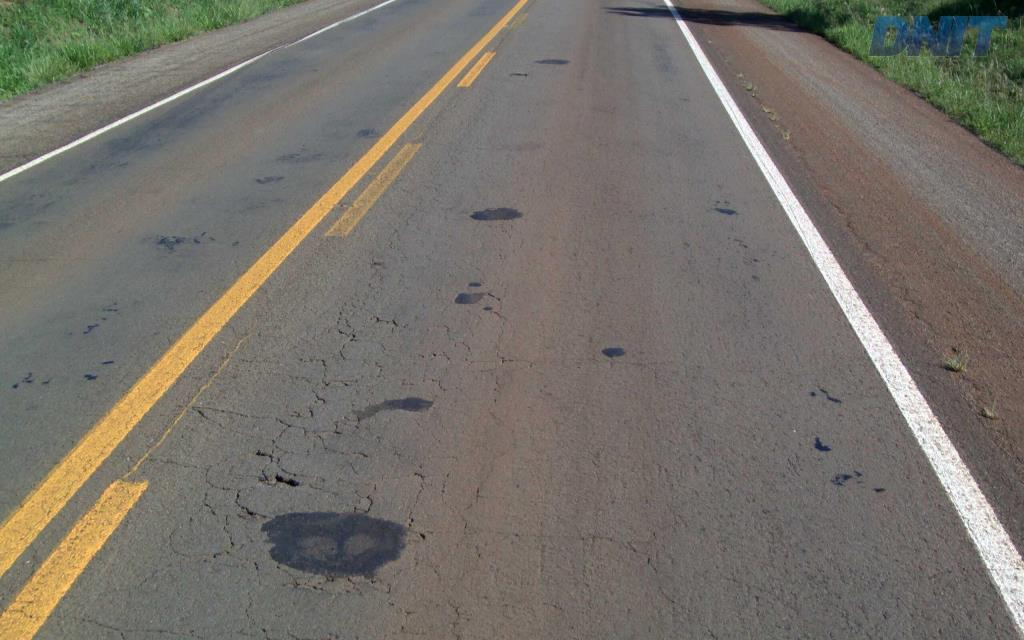crack: (281, 572, 382, 596), (254, 455, 303, 488)
